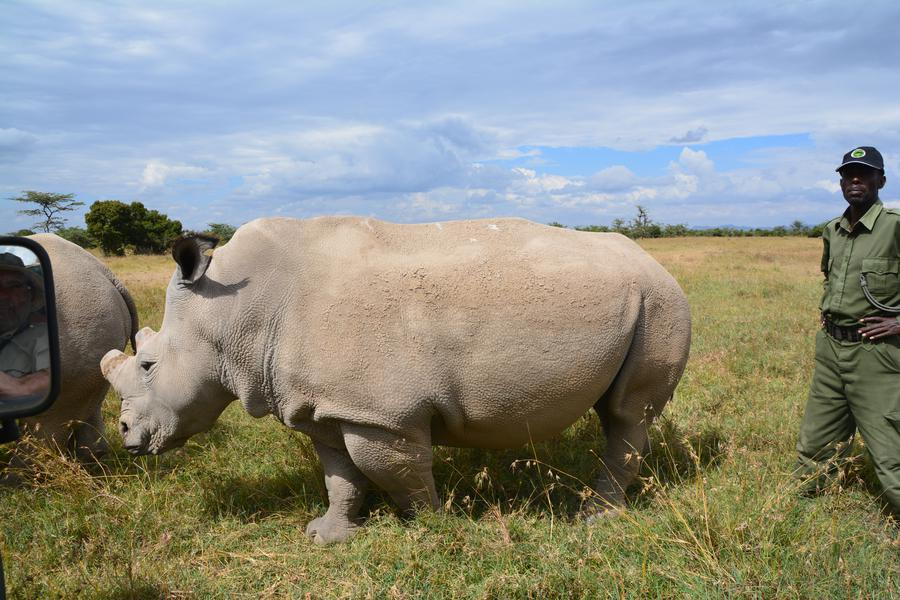rhino: (141, 218, 693, 528), (7, 210, 127, 404)
